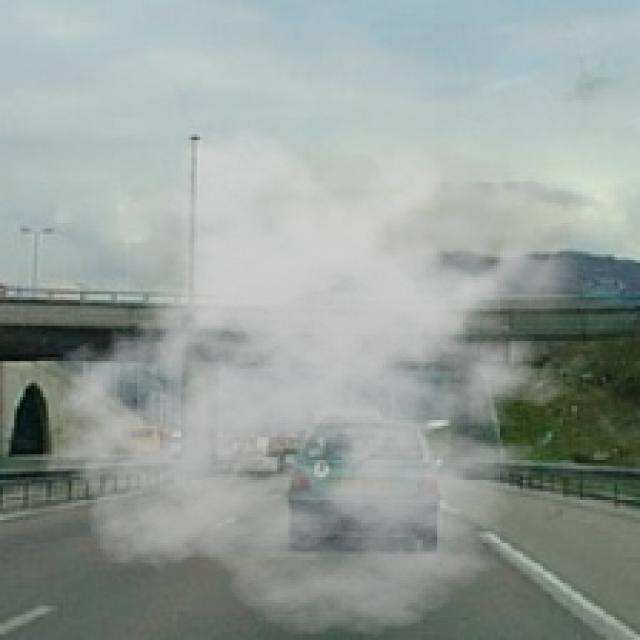smoke: (40, 112, 609, 637)
